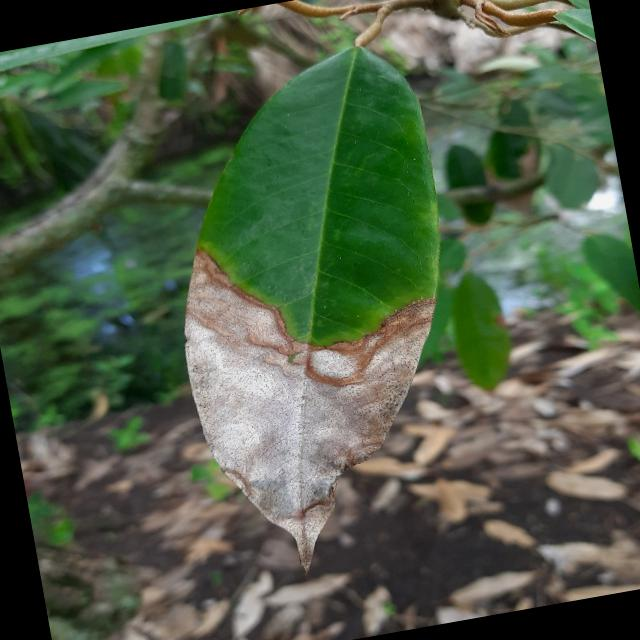Leaf Blight: (130, 29, 512, 596)
